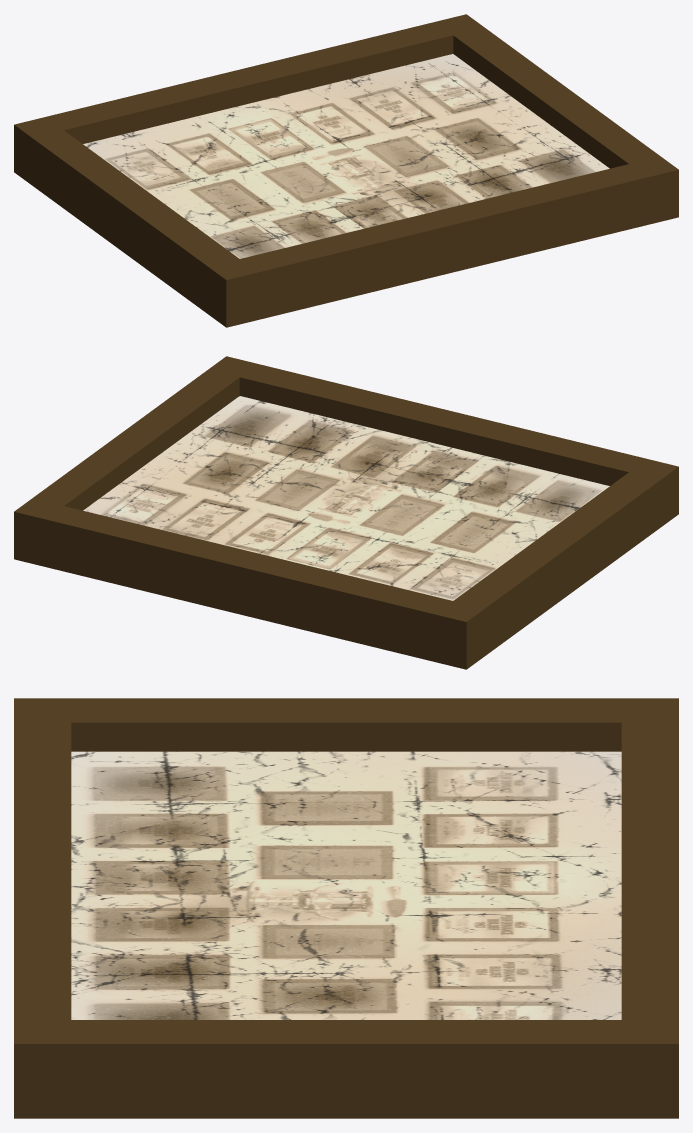
The model's file is Photo Dignity.fbx.
The picture shows the model from 3 angles, top to bottom: view 1: azimuth 30°, elevation 25°; view 2: azimuth 150°, elevation 25°; view 3: azimuth 270°, elevation 25°; orthographic projection. The views are drawn at different scales.
Parts seen in each view (by area): view 1: pCube1; view 2: pCube1; view 3: pCube1.
Boxes of the visible parts, <box> form: pCube1: <box>14,14,678,327</box>; pCube1: <box>14,356,678,669</box>; pCube1: <box>14,698,678,1118</box>.
Size of the model in its own units: 4.29 by 0.4318 by 3.49.
2 materials, 1 textured.
